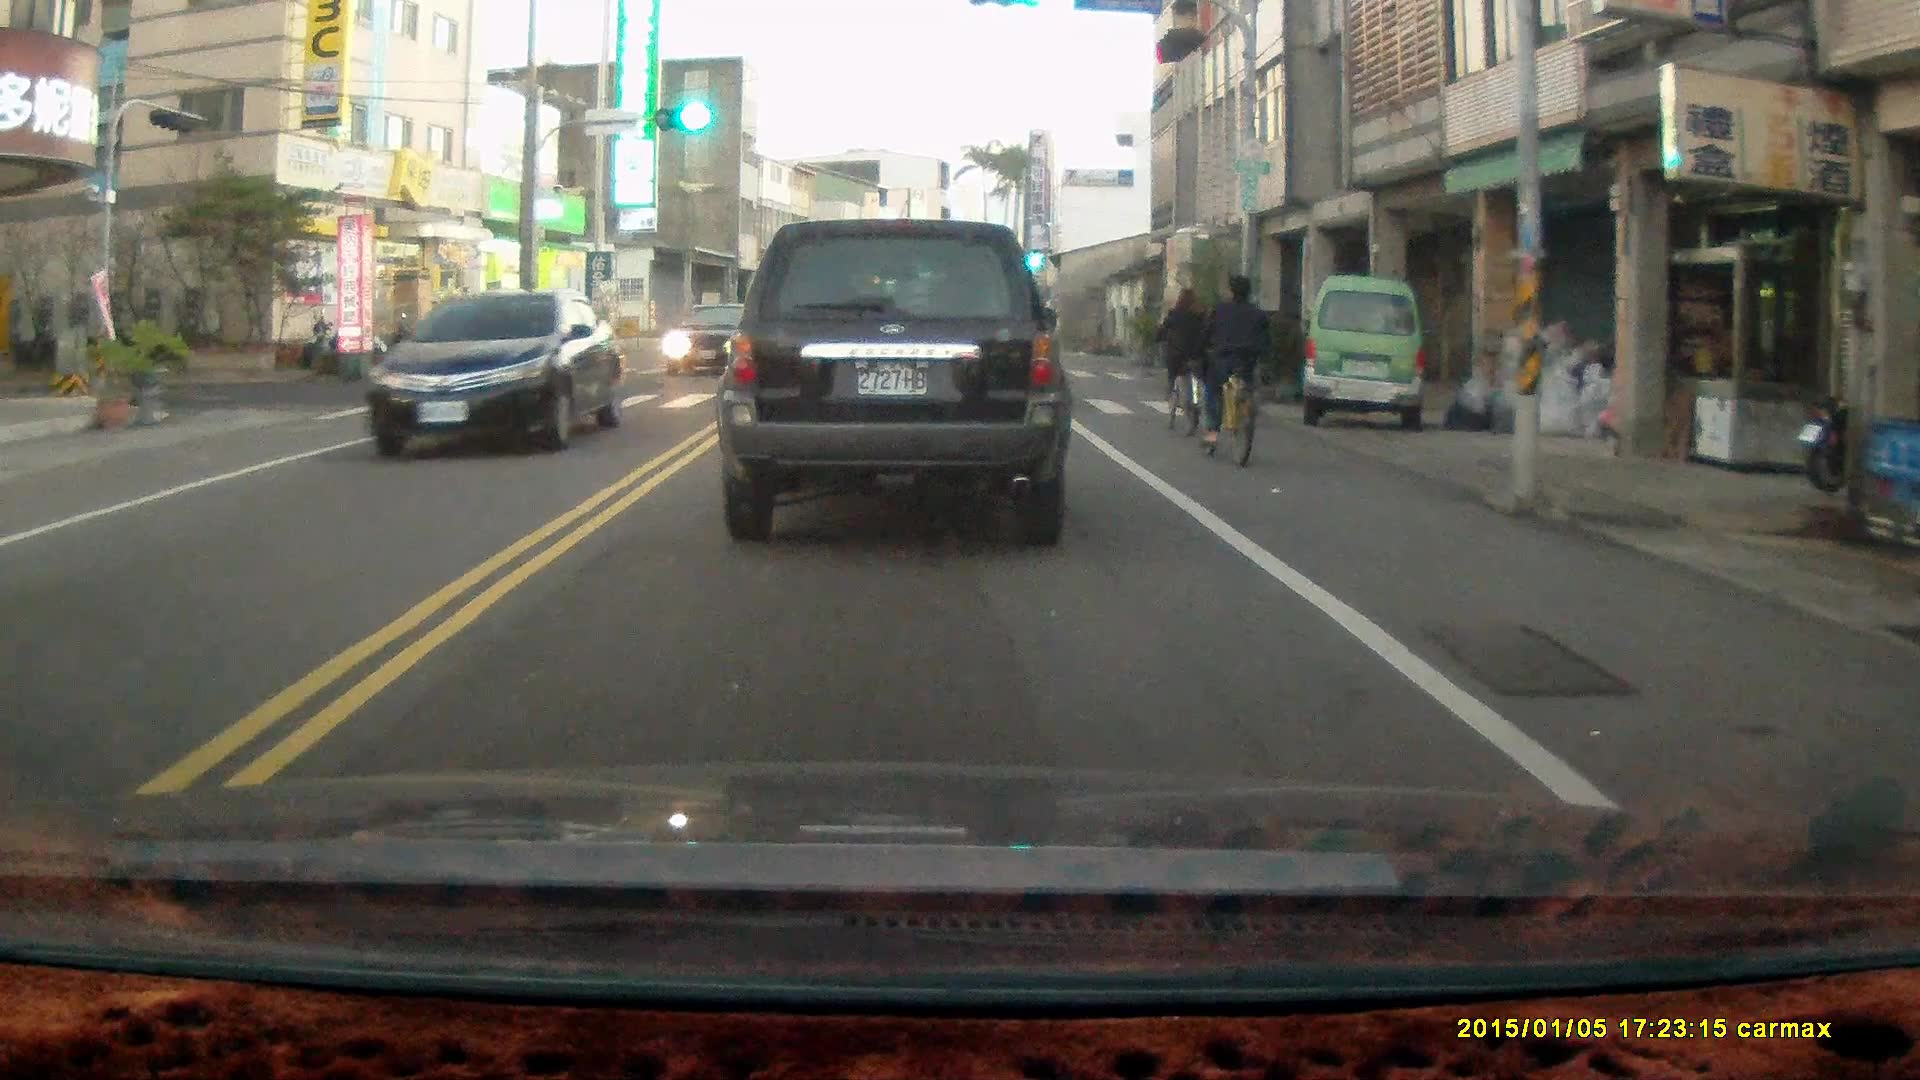rider: (1194, 271, 1269, 467), (1149, 283, 1212, 439)
vehicle: (717, 218, 1078, 544), (366, 287, 620, 463), (1300, 275, 1427, 434), (664, 300, 776, 381)
